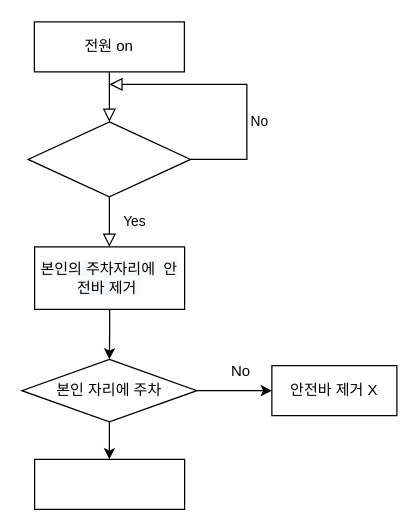
The diagram is 419 pixels wide and 531 high, and some of its shapes have lost their labels. The shapes that lost their labels are listed below. From the top down, each one's centre as x and y in pixels, then its label:
point (109, 159): RFID 카드 인식
point (109, 483): 주차 완료
